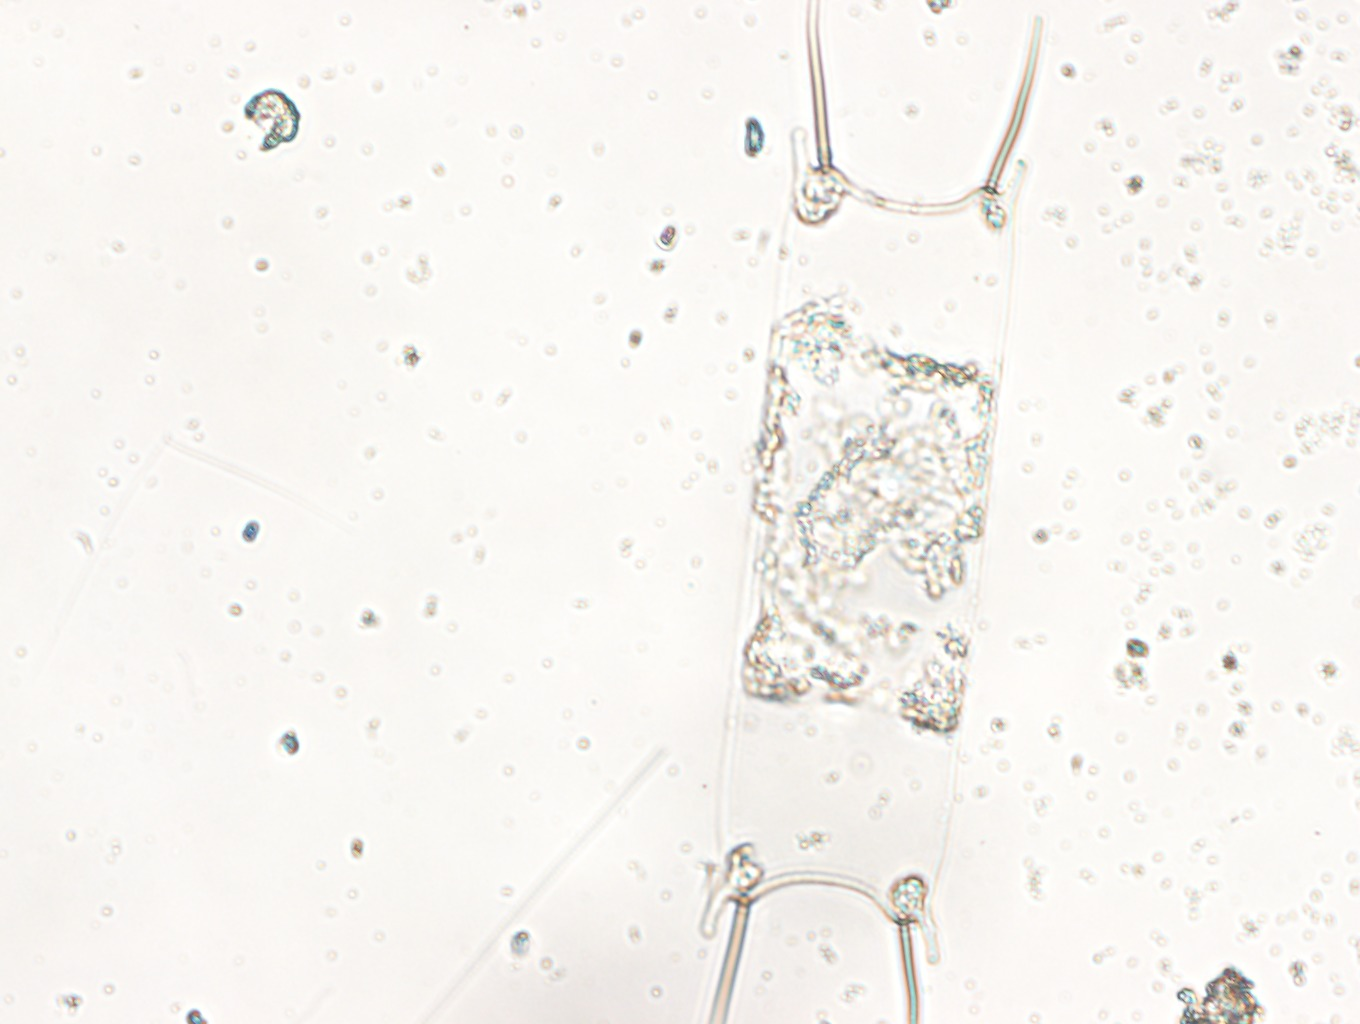biddulphia: (699, 1, 1042, 1024)
